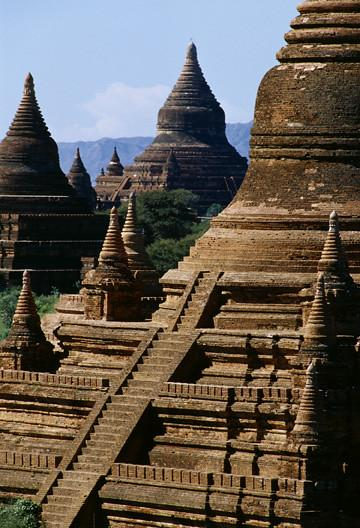temple: (1, 1, 360, 527), (94, 39, 249, 218), (1, 71, 105, 294)
